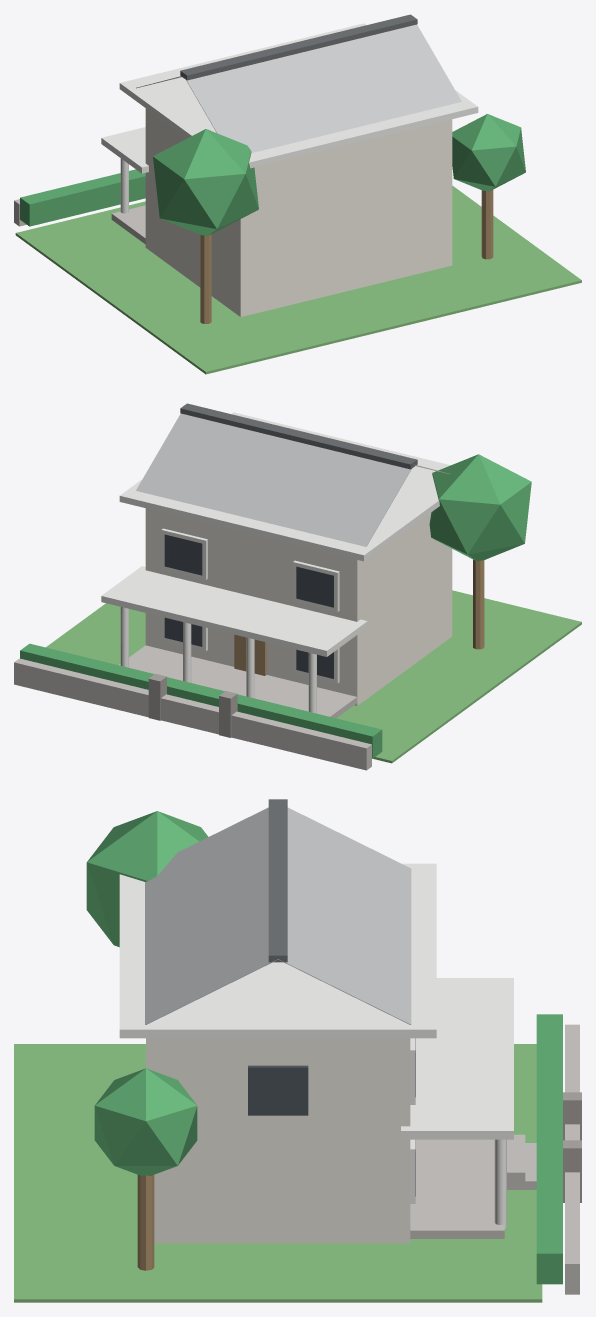
Rendered from ph_gra_duplex_b.glb.
The picture shows the model from 3 angles, top to bottom: view 1: azimuth 30°, elevation 25°; view 2: azimuth 150°, elevation 25°; view 3: azimuth 270°, elevation 25°; orthographic projection. The views are drawn at different scales.
Visible parts, largest first — view 1: PH_ph_gra_duplex_b; view 2: PH_ph_gra_duplex_b; view 3: PH_ph_gra_duplex_b.
Part boxes in pixels (left/top/right/bottom): PH_ph_gra_duplex_b: left=14, top=14, right=581, bottom=374; PH_ph_gra_duplex_b: left=14, top=403, right=581, bottom=770; PH_ph_gra_duplex_b: left=14, top=799, right=581, bottom=1302.
Bounding box in the file's own units: 16 × 8.7 × 15.05.
